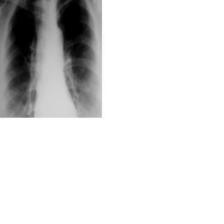tuberculosis: (2, 1, 103, 118)
